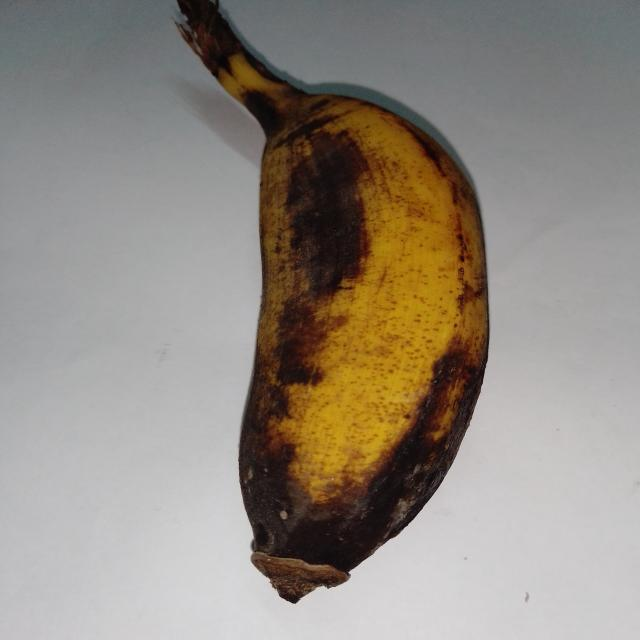banana: (178, 0, 488, 601)
